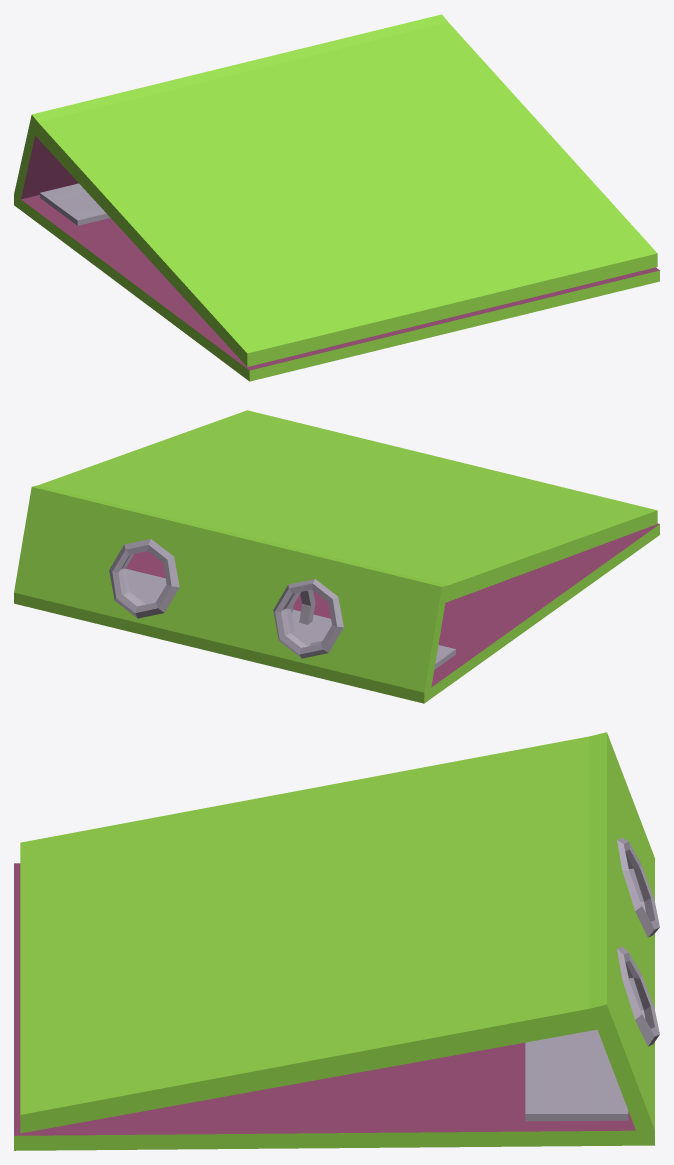
Rendered from classeur.fbx.
The picture shows the model from 3 angles, top to bottom: view 1: azimuth 30°, elevation 25°; view 2: azimuth 150°, elevation 25°; view 3: azimuth 270°, elevation 25°; orthographic projection. The views are drawn at different scales.
Parts seen in each view (by area): view 1: classeurStructure, classeurAnneau; view 2: classeurStructure, classeurAnneau; view 3: classeurStructure, classeurAnneau.
Part boxes in pixels (x1,y1,x2,y2): classeurStructure: (14, 14, 659, 381); classeurAnneau: (40, 183, 110, 225); classeurStructure: (14, 410, 659, 703); classeurAnneau: (125, 569, 455, 669); classeurStructure: (14, 732, 659, 1150); classeurAnneau: (525, 1029, 628, 1121).
Bounding box in the file's own units: 640 × 160 × 642.
